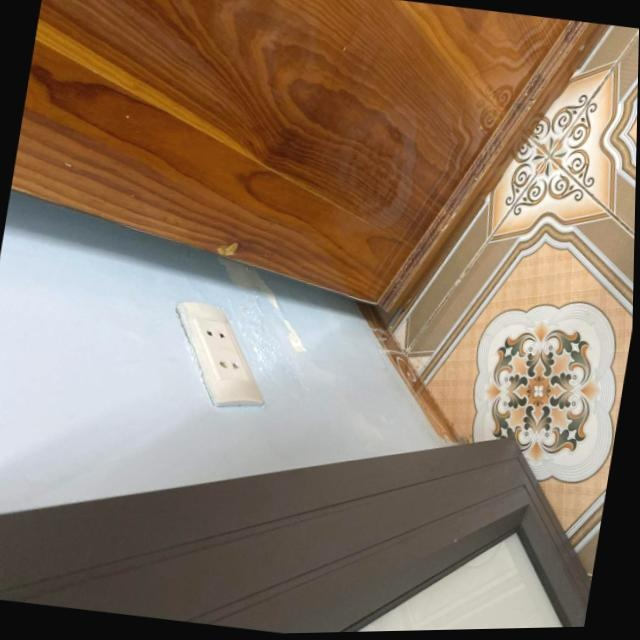outlet: (160, 297, 279, 414)
